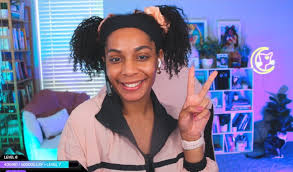person: (56, 7, 219, 171)
